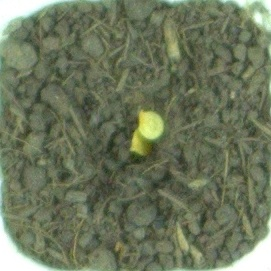chilli seed: (127, 126, 158, 159), (137, 107, 166, 140)
